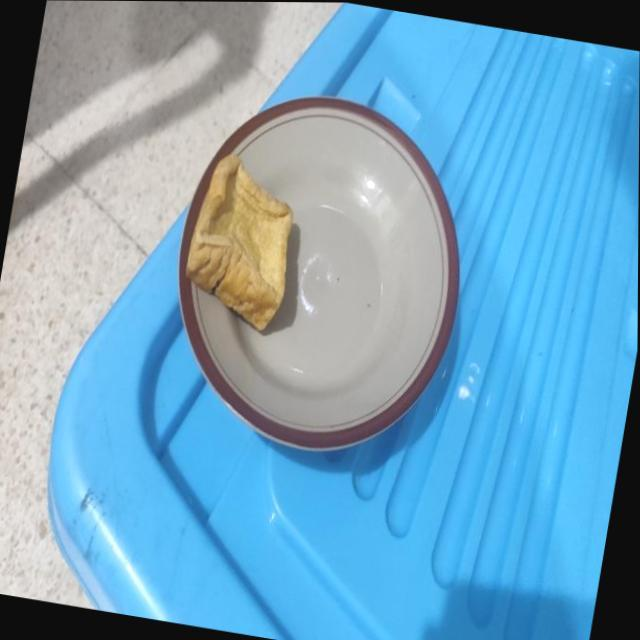tahu_goreng: (186, 154, 292, 331)
